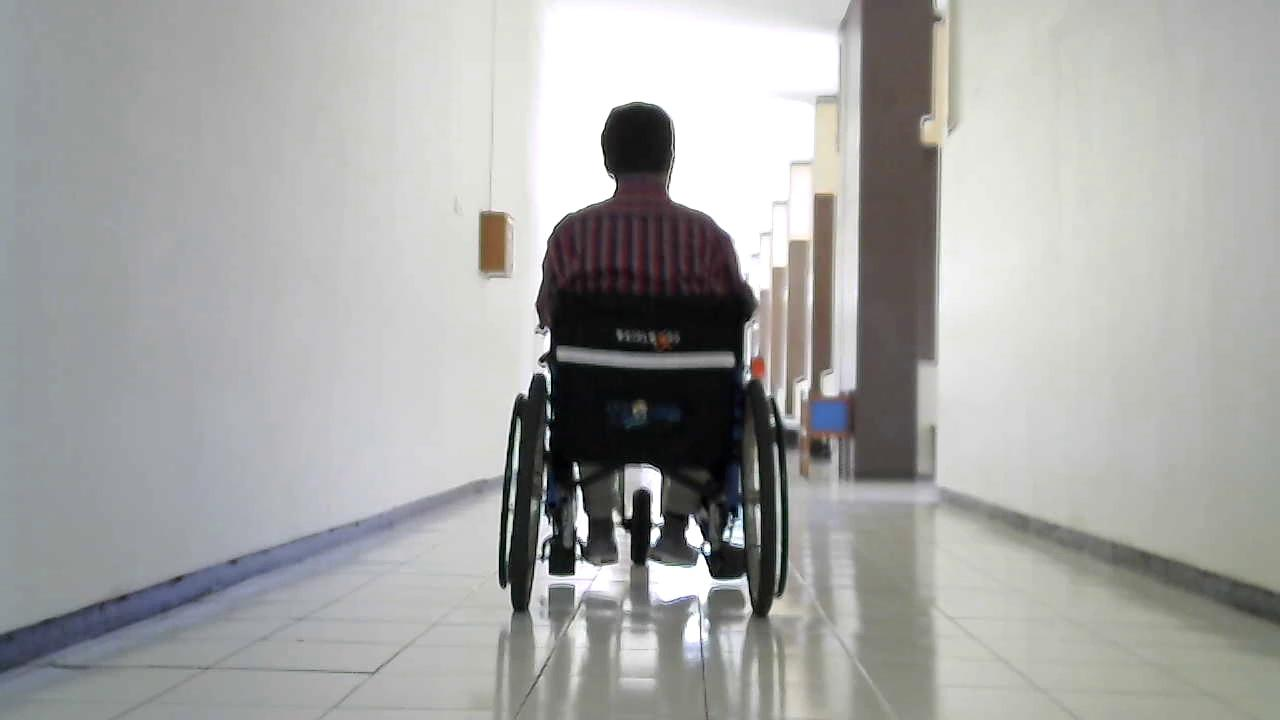person: (532, 100, 758, 581)
wheelchair: (495, 269, 805, 636)
